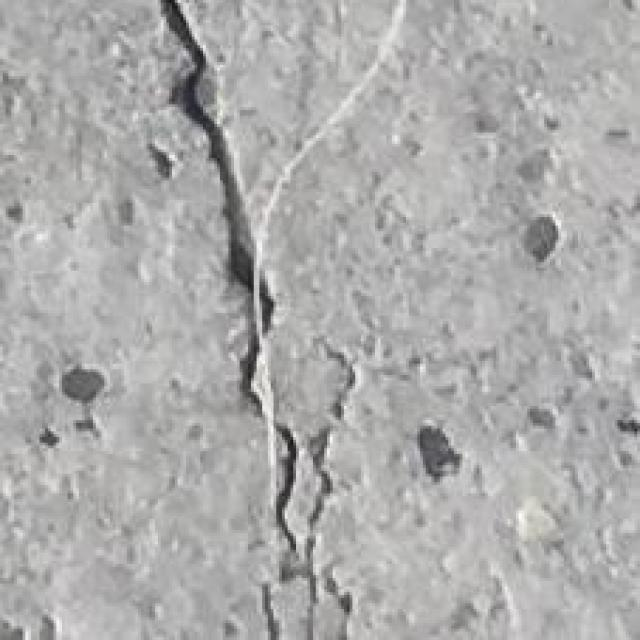Crack: (161, 3, 361, 640)
